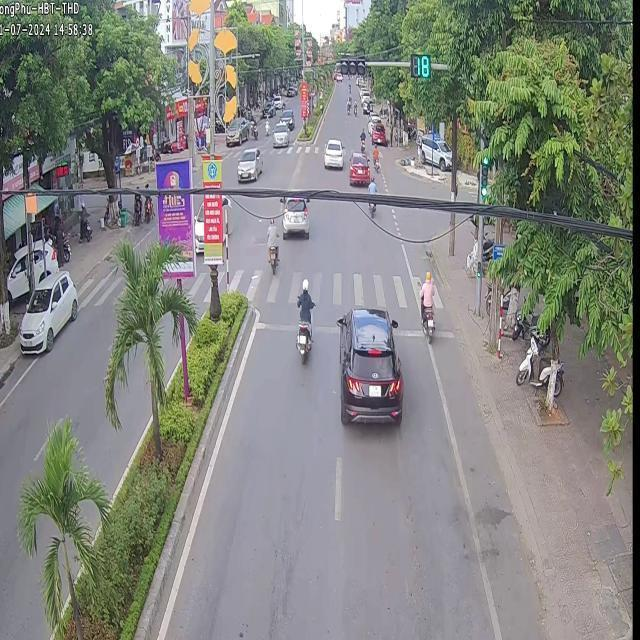car: (336, 305, 400, 422), (17, 269, 76, 351), (280, 194, 308, 238), (347, 151, 368, 184), (322, 138, 342, 167)
green_light: (409, 50, 432, 78), (478, 154, 487, 194)
motobike: (294, 276, 313, 361), (418, 269, 434, 340), (266, 218, 277, 270)
stop_line: (256, 320, 294, 329), (393, 327, 422, 336), (313, 322, 337, 331), (434, 329, 448, 334)
